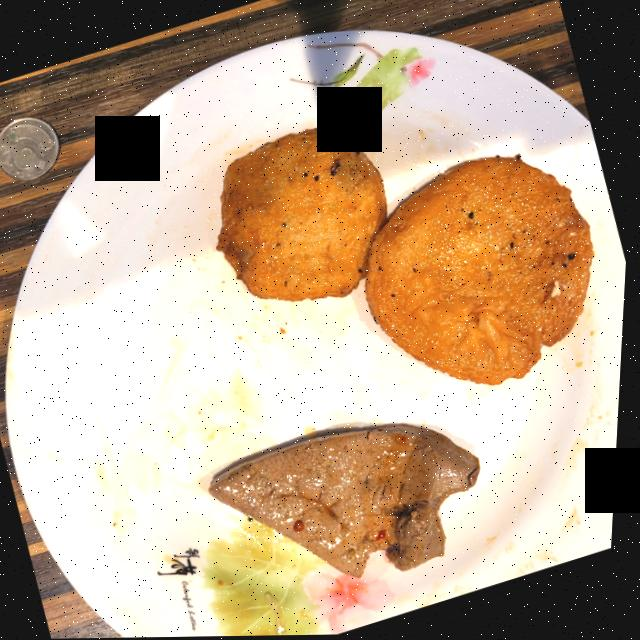coin: (0, 117, 60, 180)
fish cake: (219, 129, 596, 386)
pig liver: (213, 425, 484, 578)
